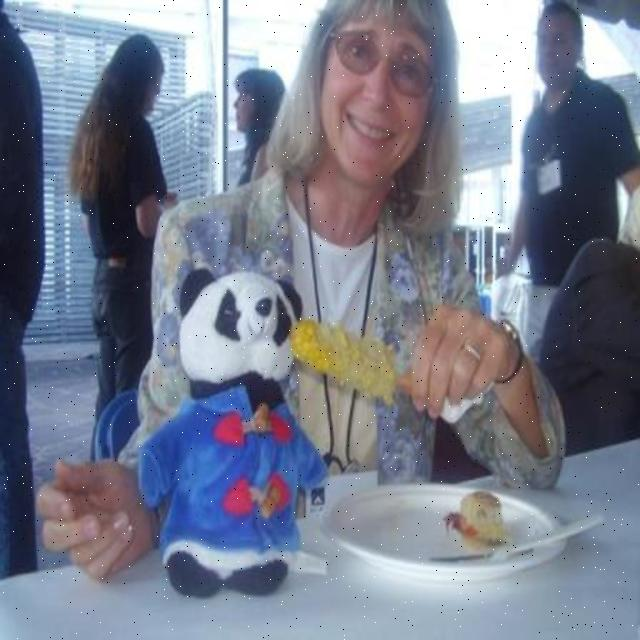panda: (141, 265, 326, 596)
